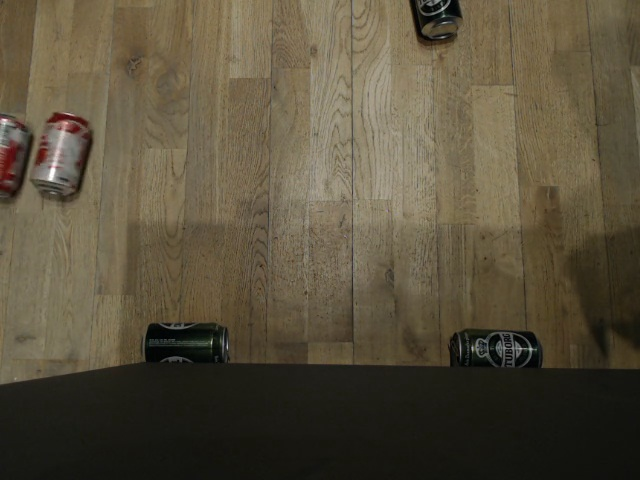beer: (445, 325, 545, 370), (136, 320, 232, 361), (408, 0, 466, 45)
cola: (27, 109, 91, 196), (0, 110, 31, 203)
